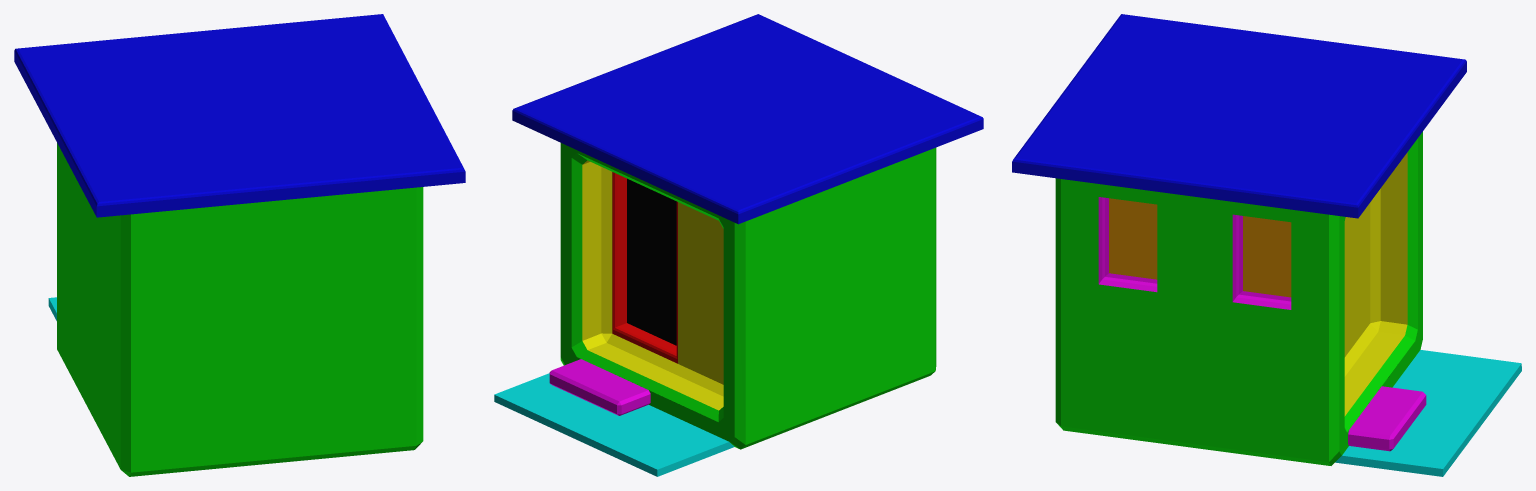
Rendered from GB_Village_House_09.fbx.
3 views of the same model, side by side, from view 1: azimuth 30°, elevation 25°; view 2: azimuth 150°, elevation 25°; view 3: azimuth 270°, elevation 25° (orthographic). The views are drawn at different scales.
Visible parts, largest first — view 1: GB_Village_House_09; view 2: GB_Village_House_09; view 3: GB_Village_House_09.
Part boxes in pixels (x1,y1,x2,y2): GB_Village_House_09: [14, 14, 465, 476]; GB_Village_House_09: [494, 14, 983, 476]; GB_Village_House_09: [1012, 14, 1521, 476].
Size of the model in its own units: 59.43 by 40.79 by 66.58.
